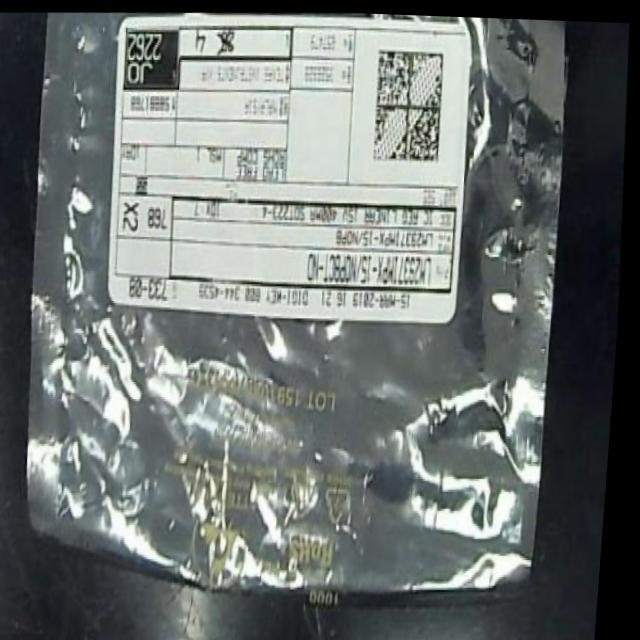datamatrix: (370, 40, 451, 165)
